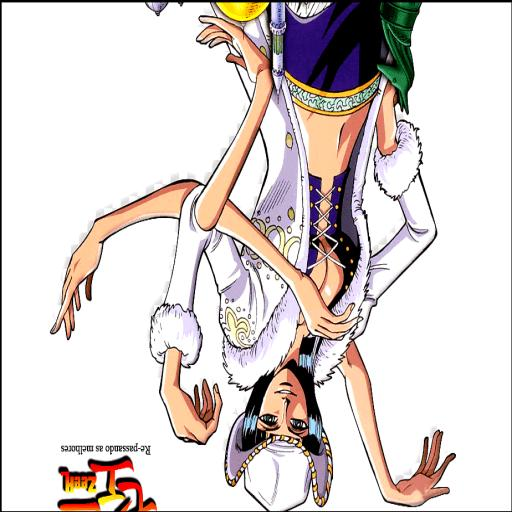NicoRobin: (60, 2, 451, 508)
